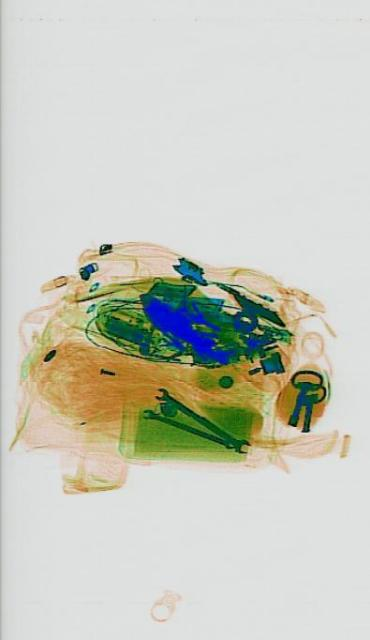Wrench: (153, 382, 249, 456), (139, 406, 233, 450)
